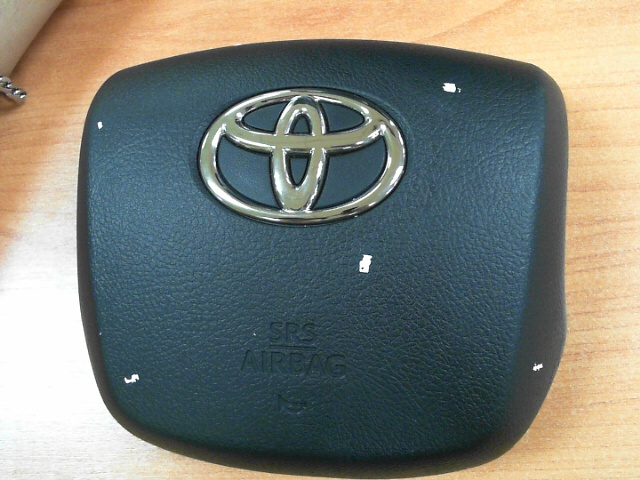Airbag: (358, 254, 373, 274), (442, 82, 462, 94), (123, 373, 140, 384), (532, 363, 544, 372), (97, 121, 104, 129)
